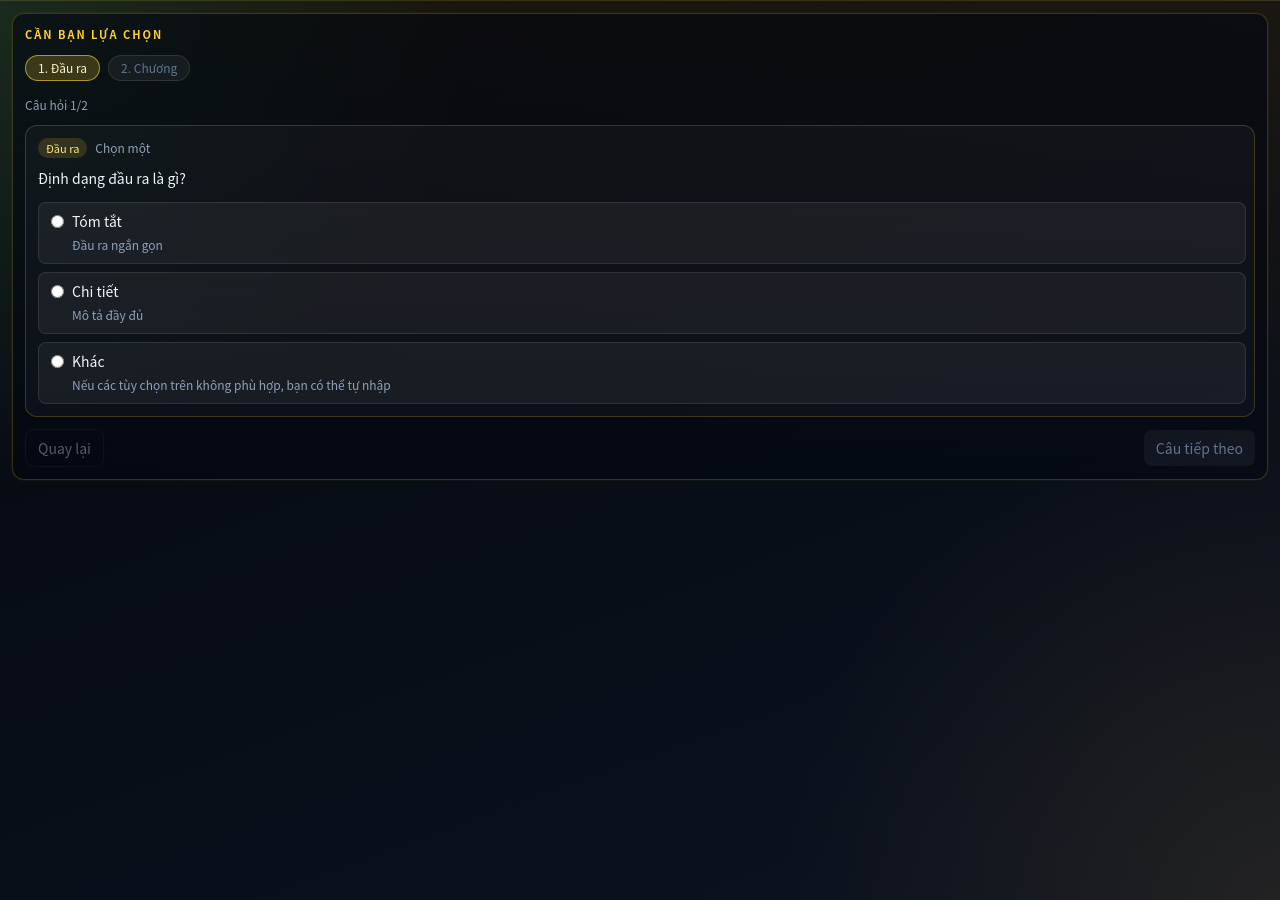
PendingQuestionWizard › renders only the current question and blocks next until answered
Expected: the text "Câu hỏi 1/2" is shown, [25,96,88,112]
Expected: the text "Định dạng đầu ra là gì?" is shown, [38,168,186,188]
Click the radio button labelled "Tóm tắt". click: point(58, 222)
box: [51,215,64,228]
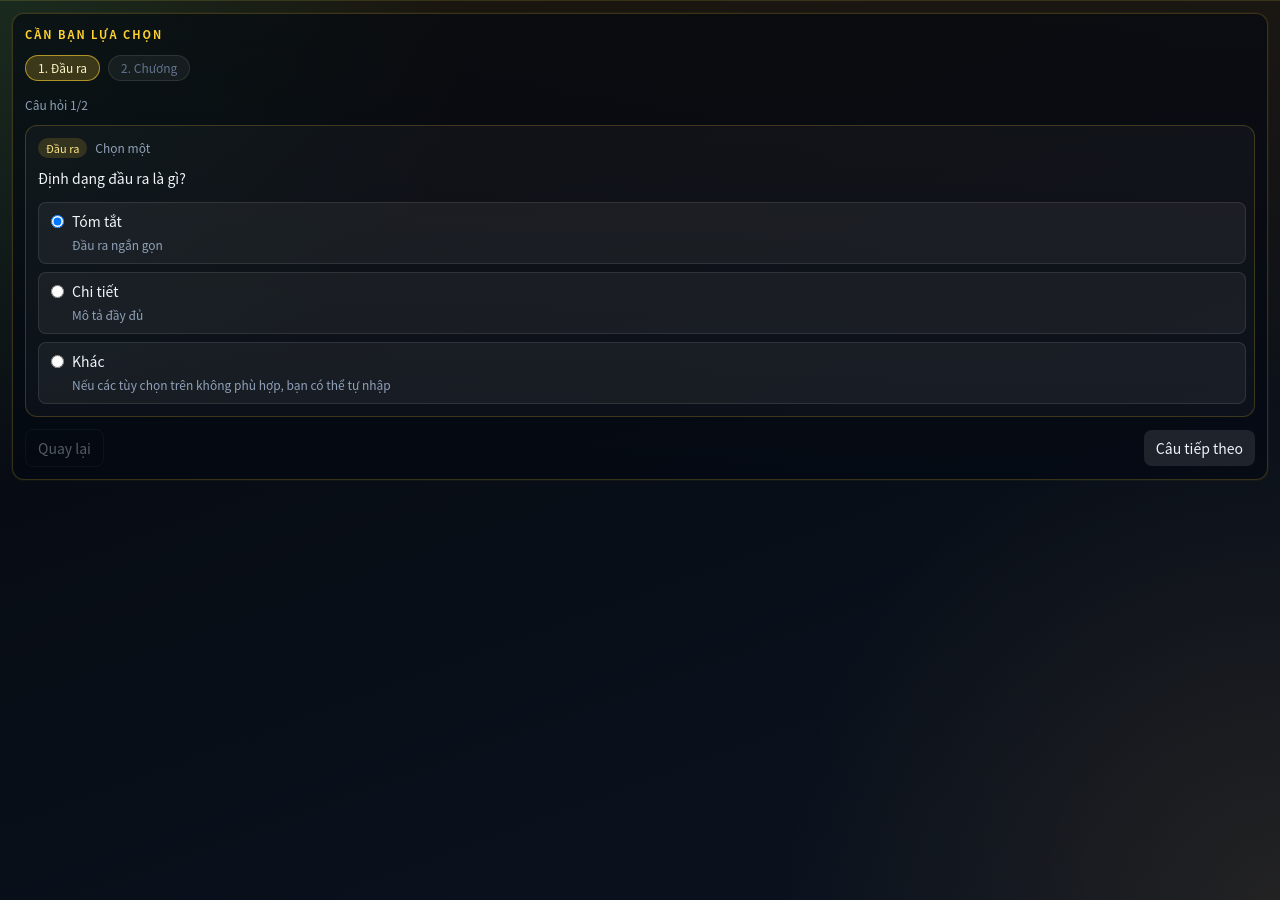
Now the button "Câu tiếp theo" is enabled
Click the button "Câu tiếp theo". click: point(1199, 448)
box: [1144,430,1255,466]
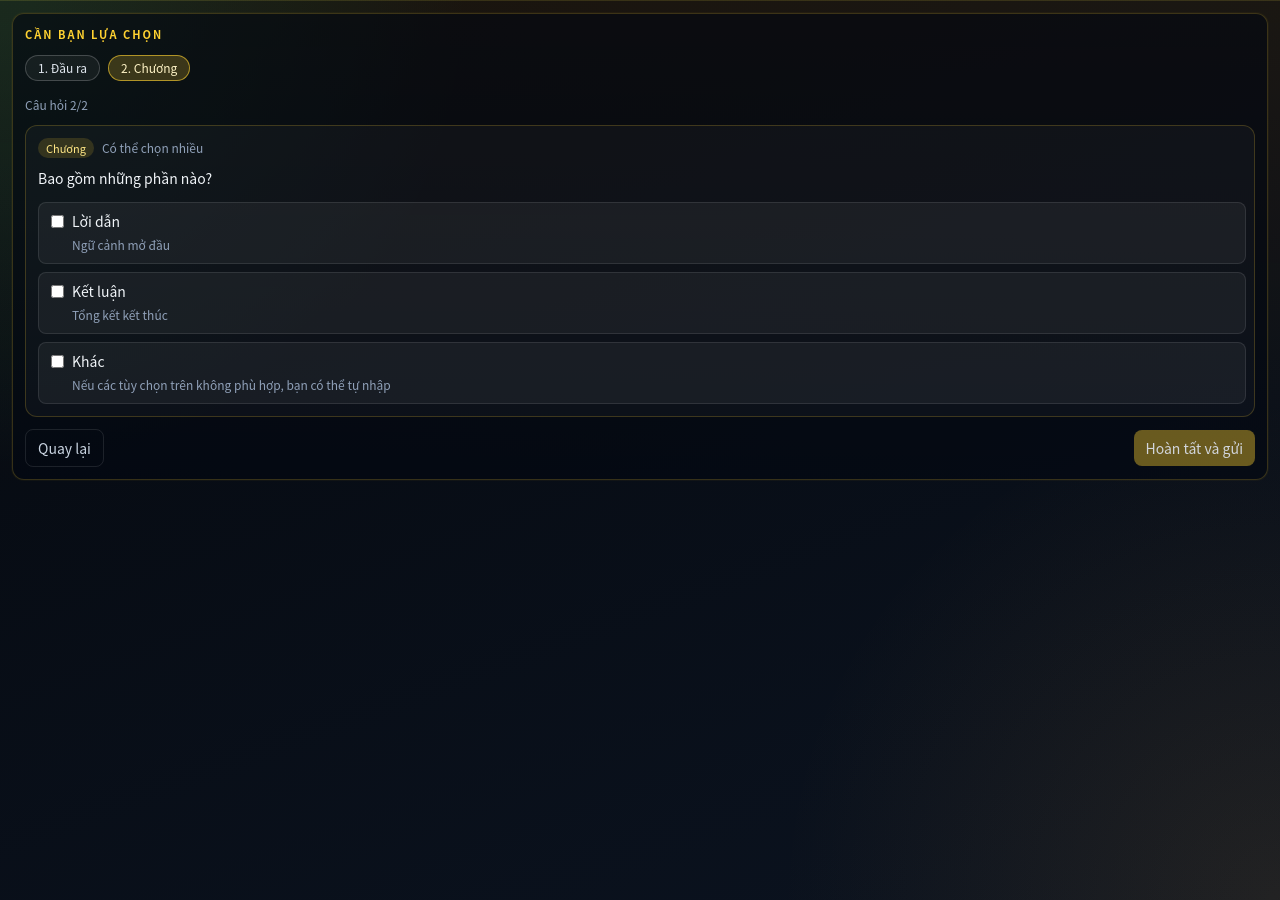
Now the text "Câu hỏi 2/2" is shown, box [25,96,88,112]
Now the text "Bao gồm những phần nào?" is shown, box [38,168,212,188]
Now the text "Định dạng đầu ra là gì?" is gone
